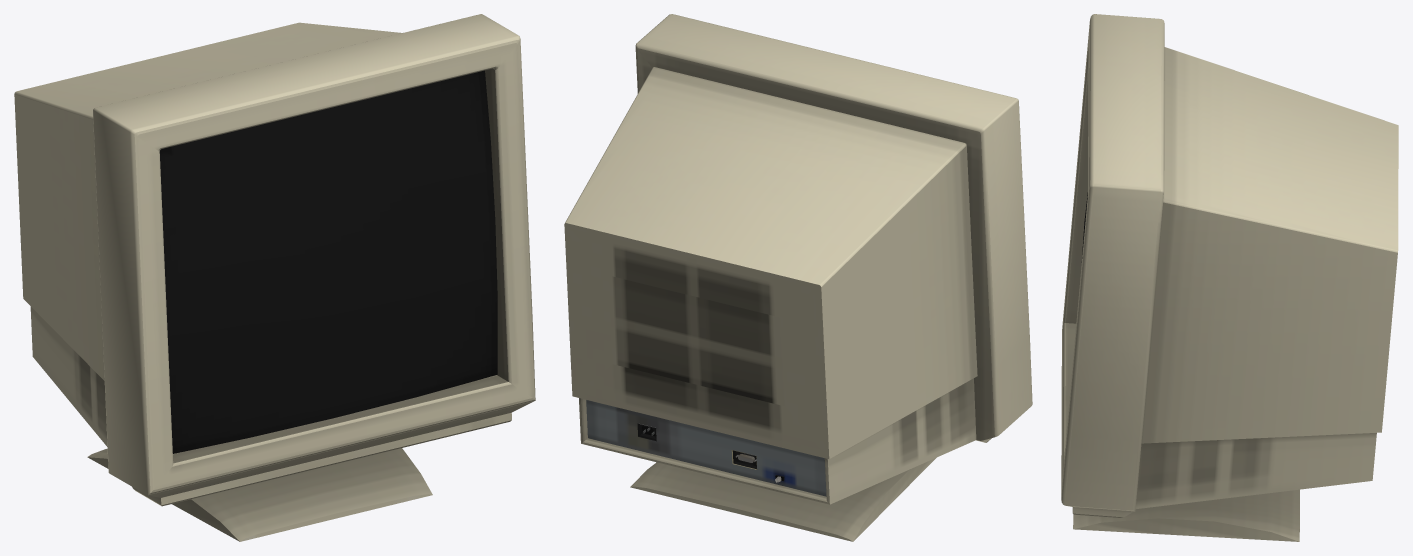
The model's file is monitor.fbx.
3 views of the same model, side by side, from view 1: azimuth 30°, elevation 25°; view 2: azimuth 150°, elevation 25°; view 3: azimuth 270°, elevation 25° (orthographic). The views are drawn at different scales.
Visible parts, largest first — view 1: Monitor; view 2: Monitor; view 3: Monitor.
Part boxes in pixels (x1,y1,x2,y2): Monitor: (14,14,535,541); Monitor: (564,14,1032,541); Monitor: (1061,14,1398,541).
Bounding box in the file's own units: 47.01 × 49.27 × 38.88.
